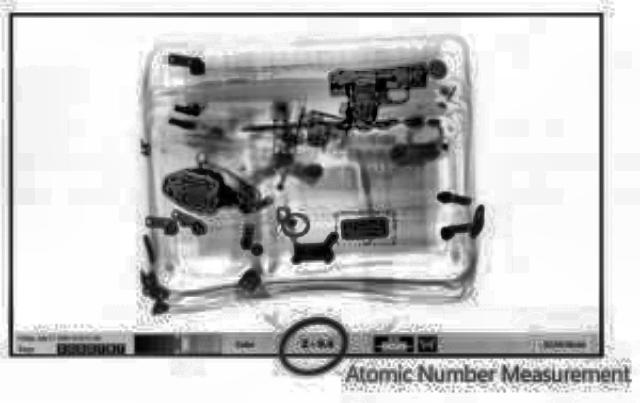Gun: (322, 59, 428, 117)
